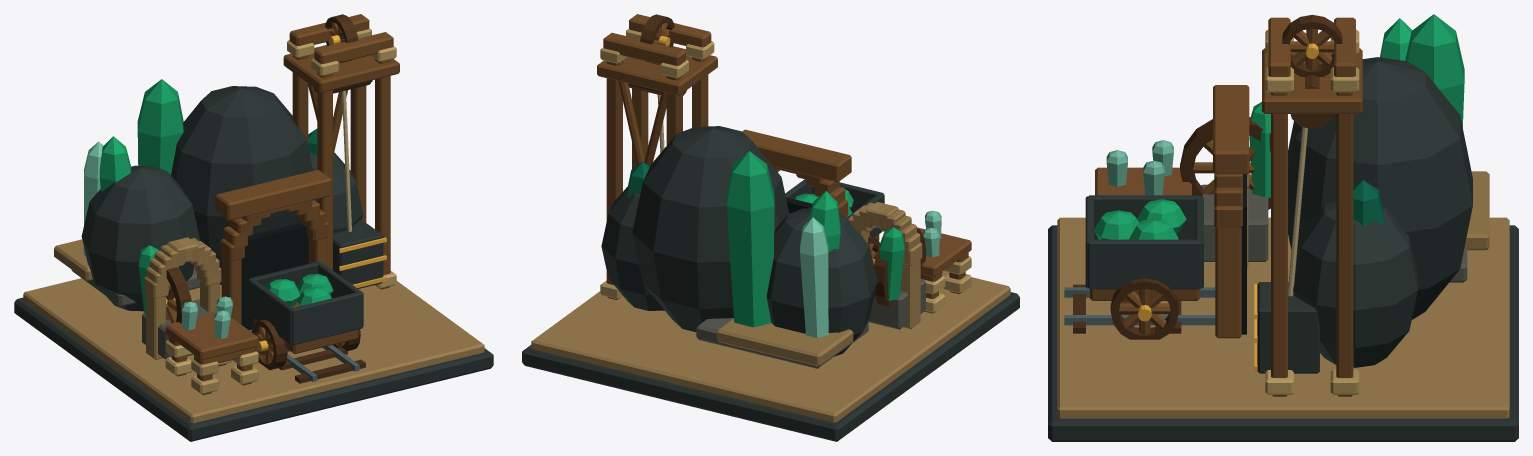
3 views of the same model, side by side, from view 1: azimuth 30°, elevation 25°; view 2: azimuth 150°, elevation 25°; view 3: azimuth 270°, elevation 25° (orthographic). The views are drawn at different scales.
Parts seen in each view (by area): view 1: gem_mine_8_structure, gem_mine_8_metal; view 2: gem_mine_8_structure; view 3: gem_mine_8_structure, gem_mine_8_metal.
Part boxes in pixels (x1,y1,x2,y2): gem_mine_8_structure: (14, 14, 493, 441); gem_mine_8_metal: (166, 35, 386, 351); gem_mine_8_structure: (522, 14, 1019, 441); gem_mine_8_structure: (1048, 14, 1518, 441); gem_mine_8_metal: (1138, 43, 1318, 371).
Size of the model in its own units: 3.6 by 3.29 by 3.6.
